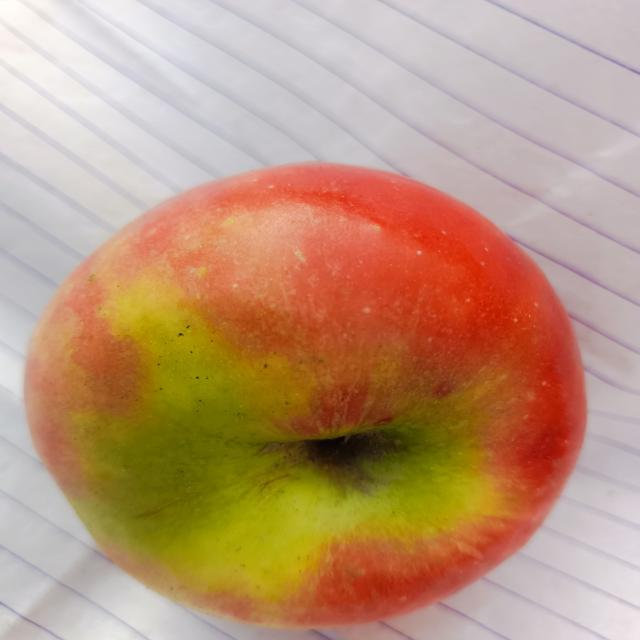Fresh Apple: (19, 163, 587, 630)
